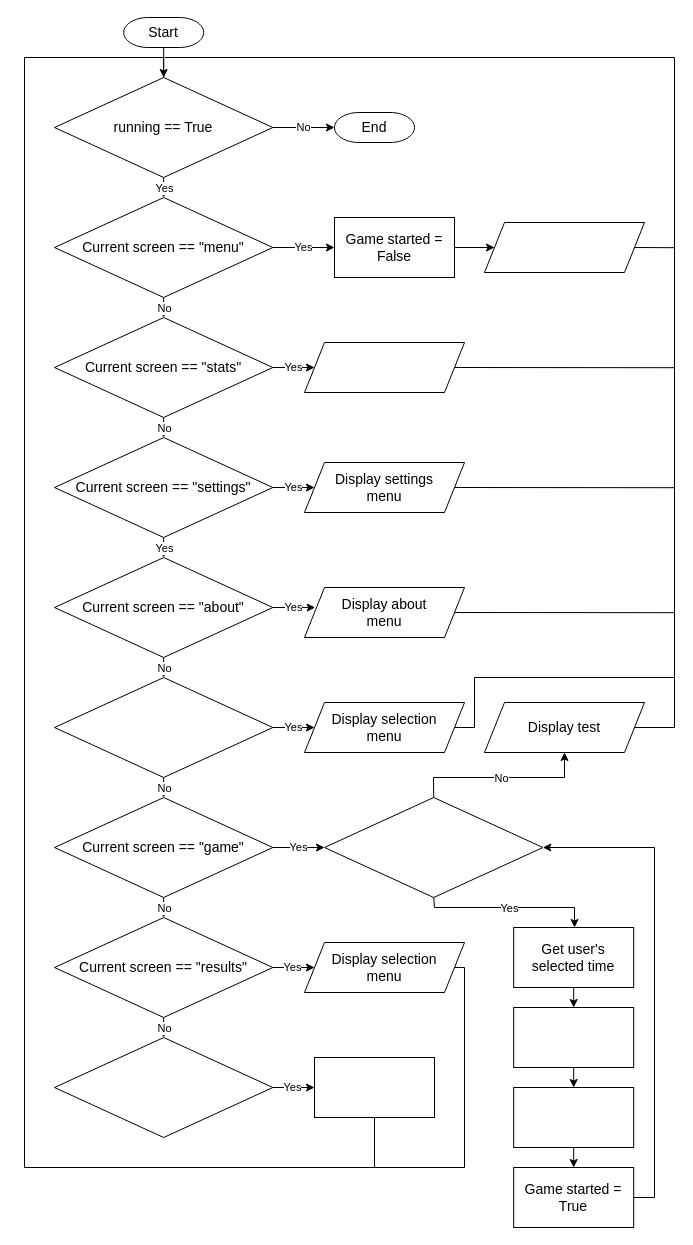
Some shapes in this 693 by 1245 pixel diagram are drawn without their labels. Here are the shapes that lost their labels. From the top down, the centre of each, then its label:
point (564, 247): Display main menu
point (384, 367): Display statistics menu
point (163, 727): Current screen == "selection"
point (433, 847): Game started != True
point (573, 1037): Get user's selected no. of words
point (163, 1087): Current screen == "quit"
point (374, 1087): running = False
point (573, 1117): Create target sentence
